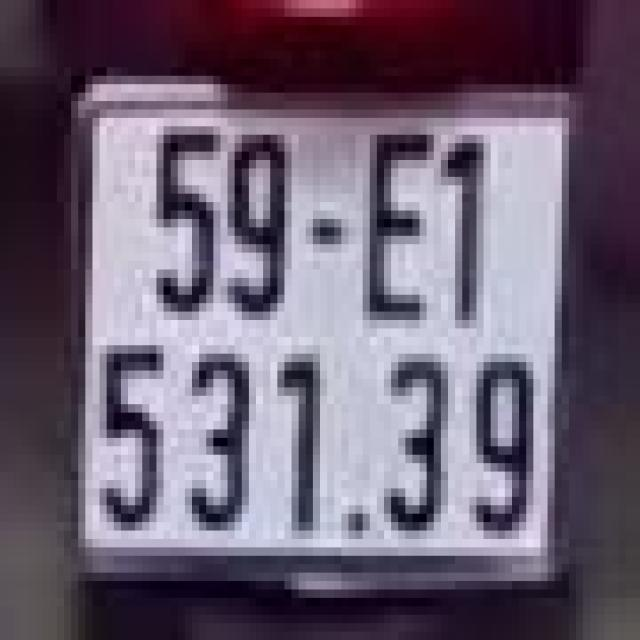1: (441, 127, 498, 346), (274, 332, 330, 534)
3: (374, 332, 452, 568), (185, 328, 256, 539)
5: (89, 320, 174, 531), (142, 118, 220, 320)
9: (462, 341, 548, 552), (224, 122, 295, 341)
E: (345, 105, 437, 341)
